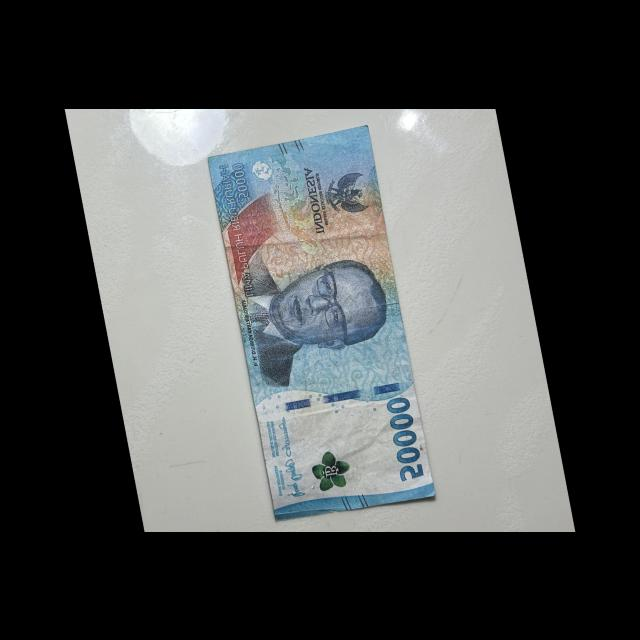Palsu-50k: (204, 122, 438, 529)
Tinta-Palsu-50k: (307, 445, 355, 493)
